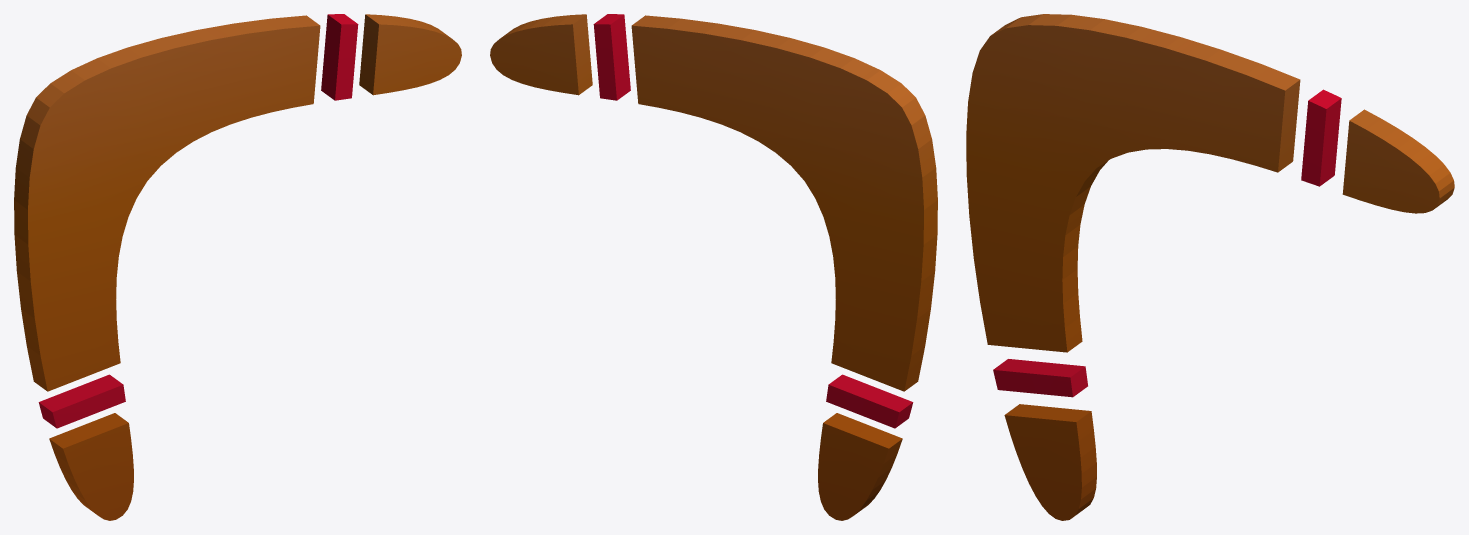
Rendered from boomerang.fbx.
3 views of the same model, side by side, from view 1: azimuth 30°, elevation 25°; view 2: azimuth 150°, elevation 25°; view 3: azimuth 330°, elevation 25° (orthographic). The views are drawn at different scales.
Parts seen in each view (by area): view 1: boomerang; view 2: boomerang; view 3: boomerang.
Boxes of the visible parts, <box> form: boomerang: <box>14,14,461,520</box>; boomerang: <box>490,14,937,520</box>; boomerang: <box>966,14,1454,520</box>.
Size of the model in its own units: 173 by 174 by 9.57.
